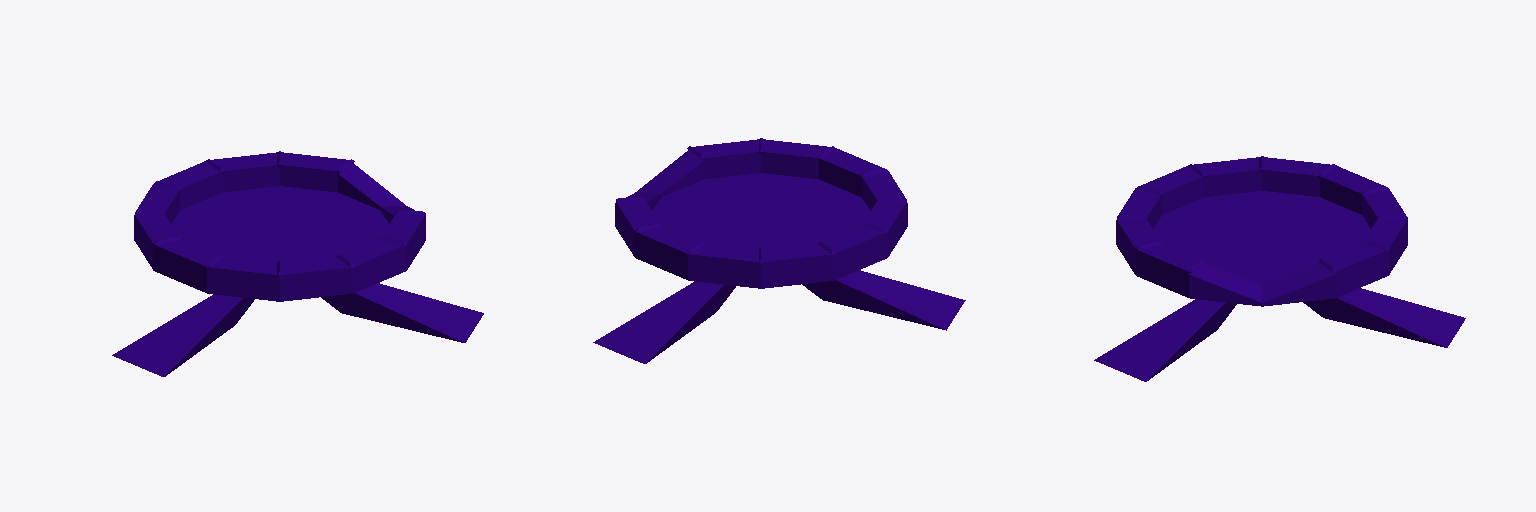
Rendered from AshTray_001.obj.
The picture shows the model from 3 angles: view 1: azimuth 30°, elevation 25°; view 2: azimuth 150°, elevation 25°; view 3: azimuth 270°, elevation 25°; orthographic projection.
Visible parts, largest first — view 1: Cylinder001; view 2: Cylinder001; view 3: Cylinder001.
Part boxes in pixels (x1,y1,x2,y2): Cylinder001: (112, 151, 483, 376); Cylinder001: (593, 138, 965, 363); Cylinder001: (1094, 156, 1465, 381).
Bounding box in the file's own units: 128 × 36 × 128.